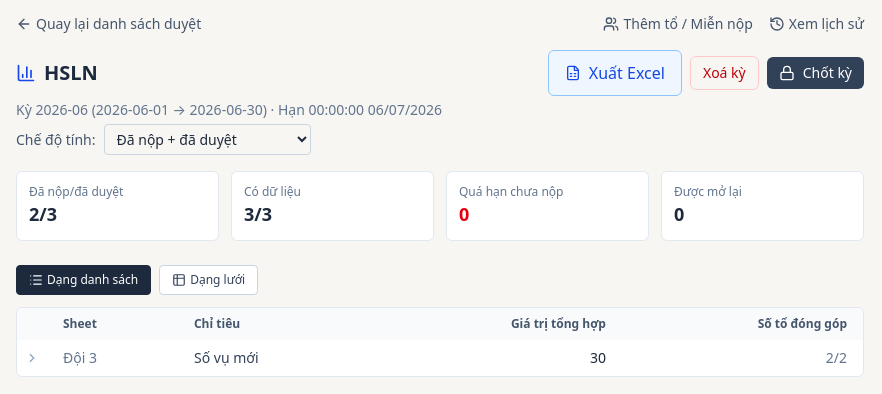
ReportPeriodSummaryPage › shows the "Tạm tính" badge only in ALL_SAVED mode
Select "Tạm tính (mọi bản đã lưu)" in the dropdown with test id "mode-select" at (207, 140), box [104,124,310,155]
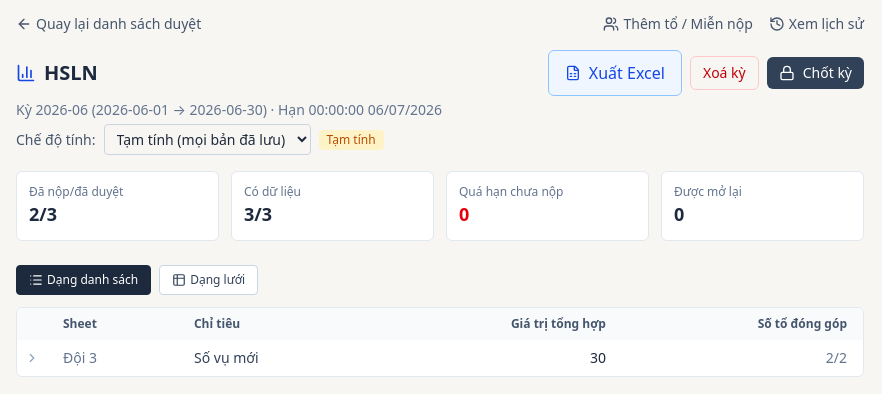
Expected: the text "Tạm tính" is shown, [318,130,384,150]
